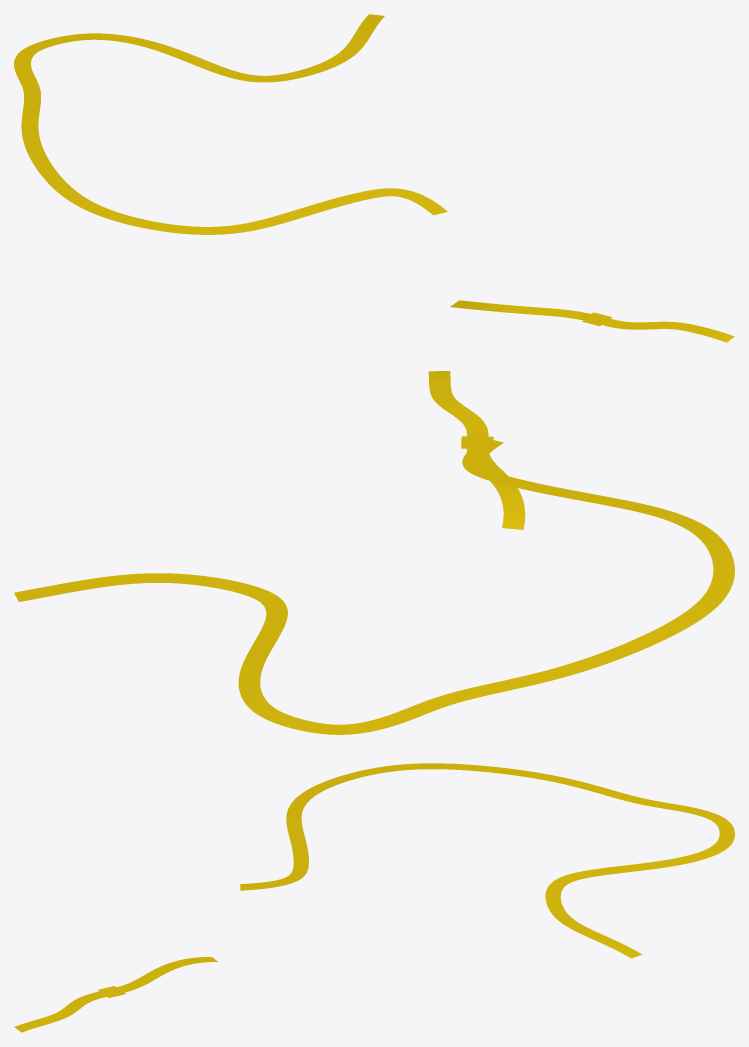
Rendered from navmesh.glb.
The picture shows the model from 3 angles, top to bottom: view 1: azimuth 30°, elevation 25°; view 2: azimuth 150°, elevation 25°; view 3: azimuth 270°, elevation 25°; orthographic projection. The views are drawn at different scales.
Parts seen in each view (by area): view 1: Navmesh; view 2: Navmesh; view 3: Navmesh.
Boxes of the visible parts, x1,y1,x2,y2 form: Navmesh: (14,14,734,342); Navmesh: (14,371,734,734); Navmesh: (14,763,734,1032).
Size of the model in its own units: 42.19 by 7.83 by 65.72.
